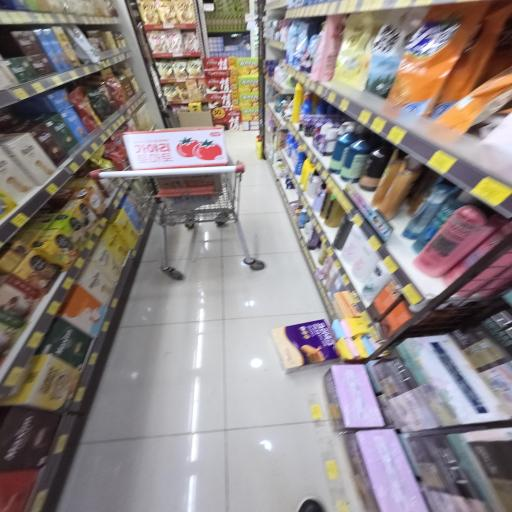fully_cart: (99, 113, 282, 287)
